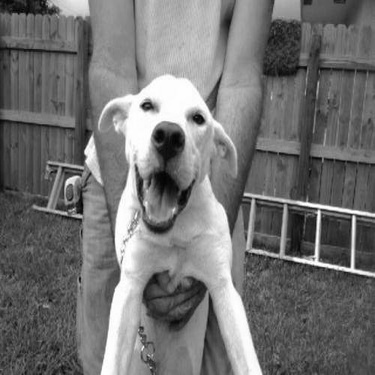dog: (81, 63, 273, 374)
